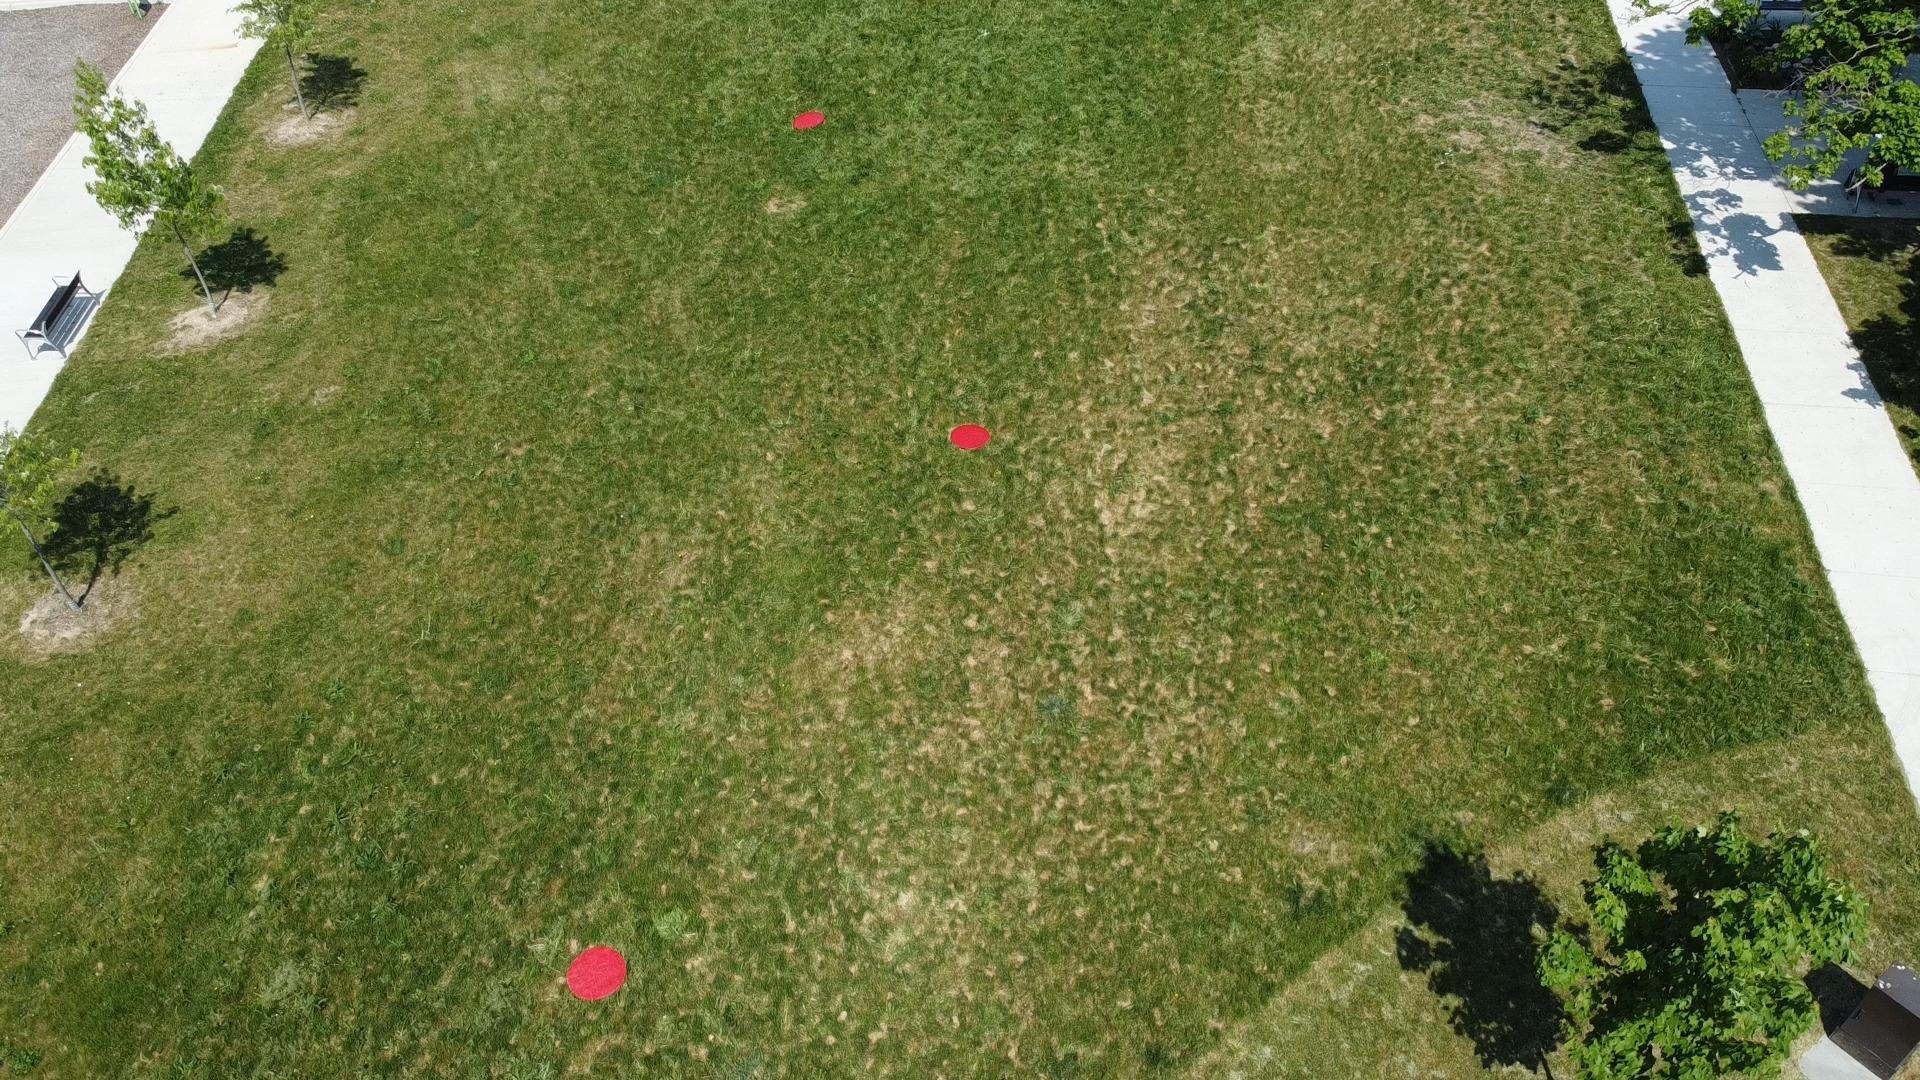Red: (564, 944, 629, 1004), (948, 419, 992, 451), (790, 109, 831, 131)
